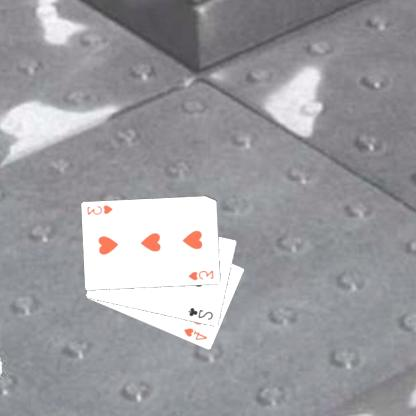2C: (188, 305, 216, 321)
3H: (188, 267, 217, 282), (86, 203, 116, 217)
4H: (183, 326, 210, 342)
